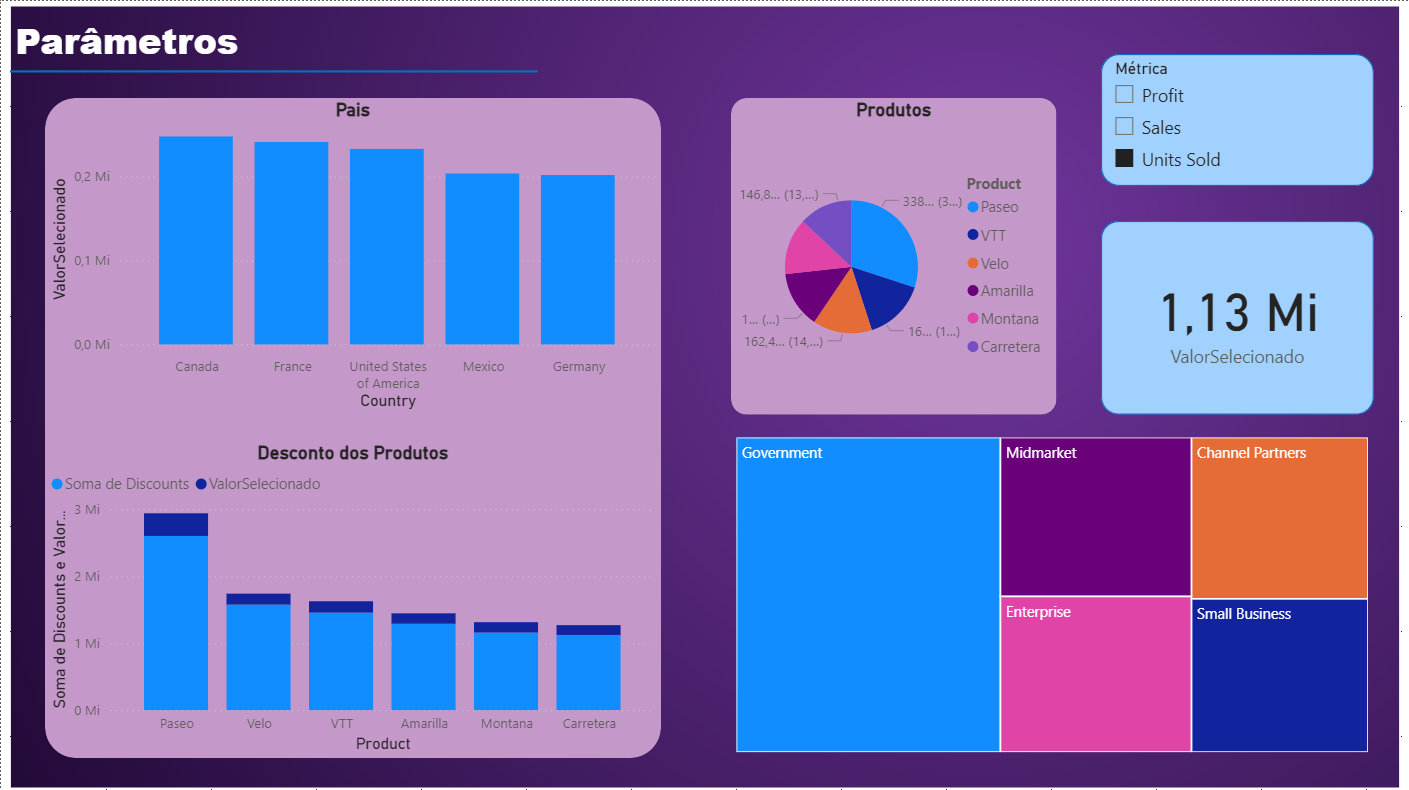

This screenshot's page, from the dashboard's own definition file:
{"tool":"powerbi","page":{"name":"Parametro","canvas":[1280,720],"ordinal":0},"visuals":[{"type":"image","box":[0,0,1280,720],"z":0},{"type":"shape","box":[1000,48,248,120],"z":1000},{"type":"shape","box":[40,88,560,600],"z":1500},{"type":"shape","box":[664,88,296,288],"z":1750},{"type":"shape","box":[1000,200,248,176],"z":1875},{"type":"slicer","fields":{"Values":["MétricaSelecionada.Métrica"]},"box":[1000,48,248,120],"z":2000},{"type":"columnChart","title":"Pais","fields":{"Category":["financials.Country"],"Y":["financials.ValorSelecionado"]},"box":[40,88,560,288],"z":3000},{"type":"pieChart","title":"Produtos","fields":{"Category":["financials.Product"],"Y":["financials.ValorSelecionado"]},"box":[664,88,296,288],"z":4000},{"type":"columnChart","title":"Desconto dos Produtos","fields":{"Y":["Sum(financials.Discounts)","financials.ValorSelecionado"],"Category":["financials.Product"]},"box":[40,400,560,288],"z":5000},{"type":"treemap","fields":{"Group":["financials.Segment"],"Values":["financials.ValorSelecionado"]},"box":[664,392,584,296],"z":6000},{"type":"textbox","box":[8,8,304,64],"z":7000},{"type":"shape","box":[8,0,480,128],"z":8000},{"type":"card","fields":{"Values":["financials.ValorSelecionado"]},"box":[1000,200,248,176],"z":9000}]}

Visuals, with their boxes in screenshot pixels (x1, y1, x2, y2), scaled from the page's 1280x720 canvas onto the 1409x790 screenshot:
image: x1=0, y1=0, x2=1408, y2=789
shape: x1=1101, y1=53, x2=1374, y2=184
shape: x1=44, y1=97, x2=660, y2=755
shape: x1=731, y1=97, x2=1057, y2=413
shape: x1=1101, y1=219, x2=1374, y2=413
slicer - MétricaSelecionada.Métrica: x1=1101, y1=53, x2=1374, y2=184
"Pais" columnChart: x1=44, y1=97, x2=660, y2=413
"Produtos" pieChart: x1=731, y1=97, x2=1057, y2=413
"Desconto dos Produtos" columnChart: x1=44, y1=439, x2=660, y2=755
treemap - financials.Segment x financials.ValorSelecionado: x1=731, y1=430, x2=1374, y2=755
textbox: x1=9, y1=9, x2=343, y2=79
shape: x1=9, y1=0, x2=537, y2=140
card - financials.ValorSelecionado: x1=1101, y1=219, x2=1374, y2=413
